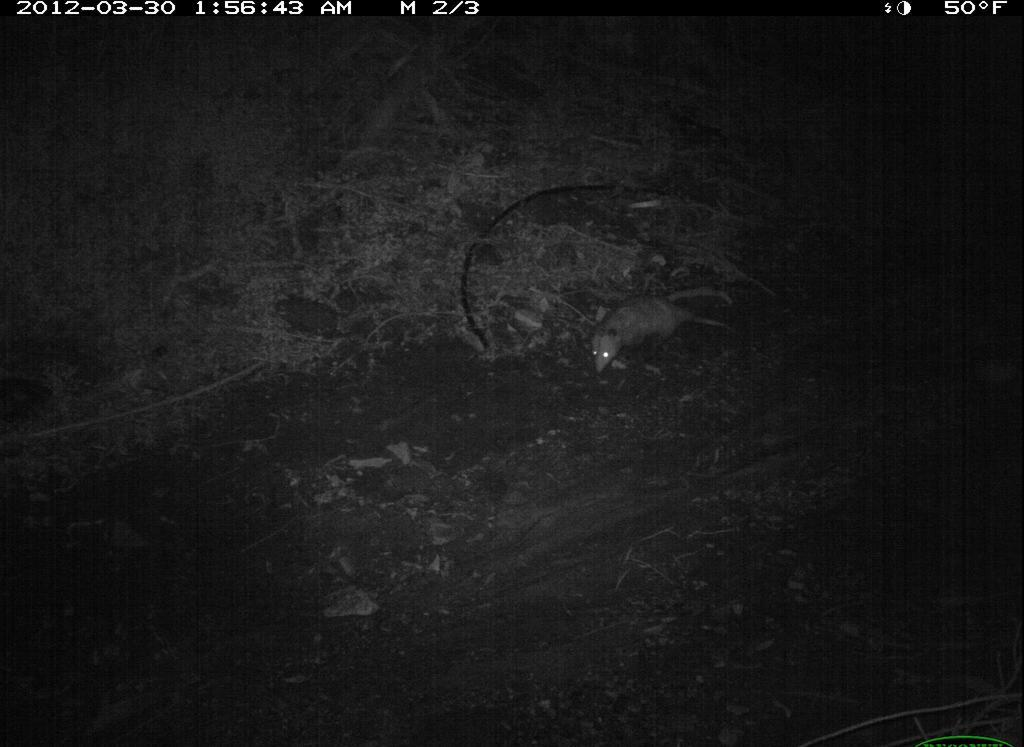opossum: (584, 277, 737, 386)
